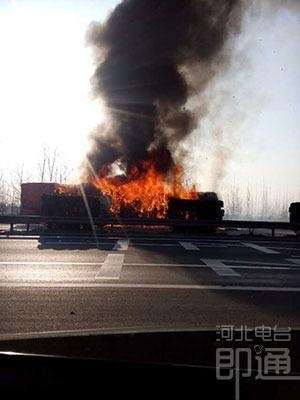fire: (90, 157, 198, 219)
